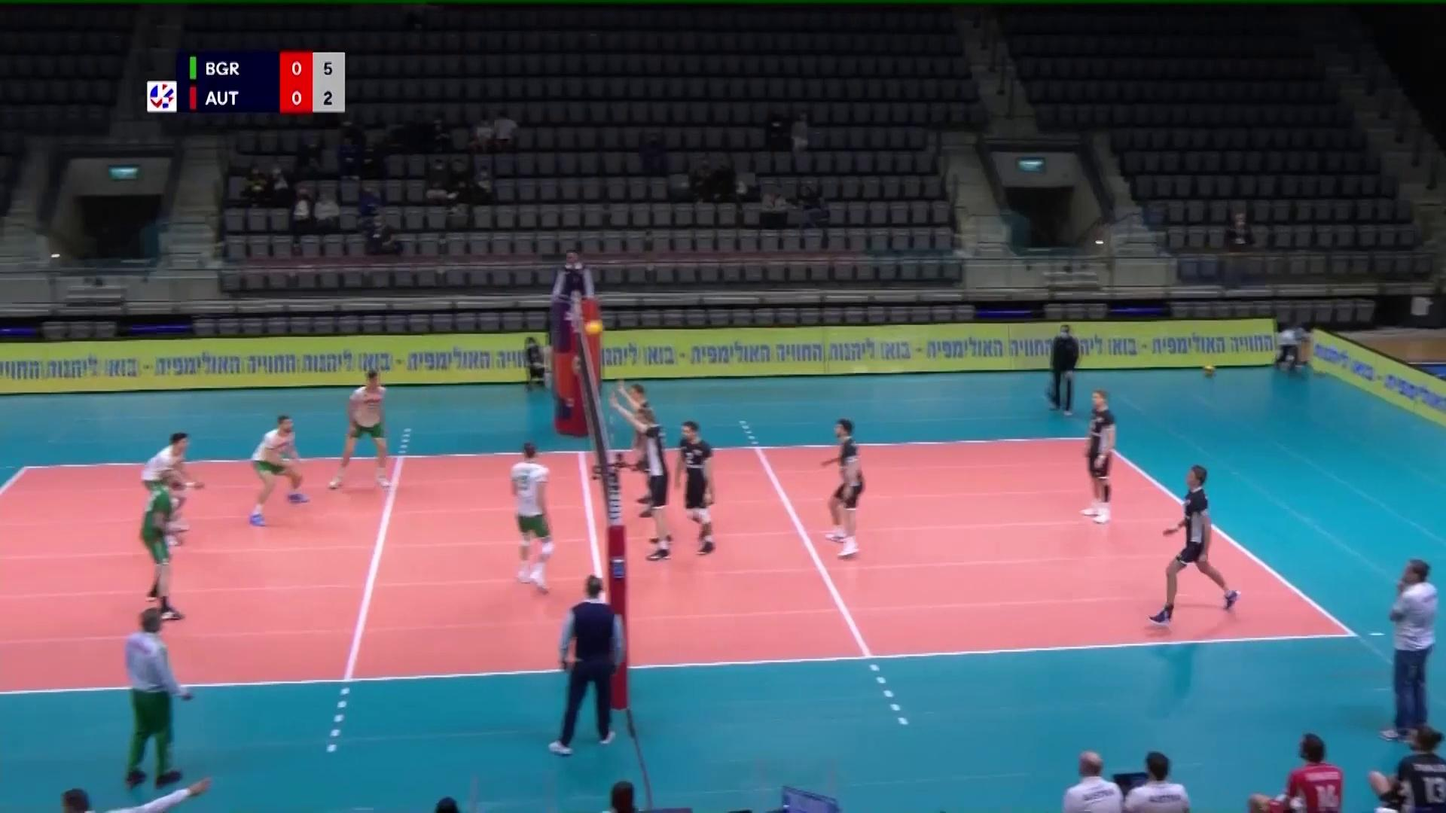ball: (585, 321, 603, 334)
